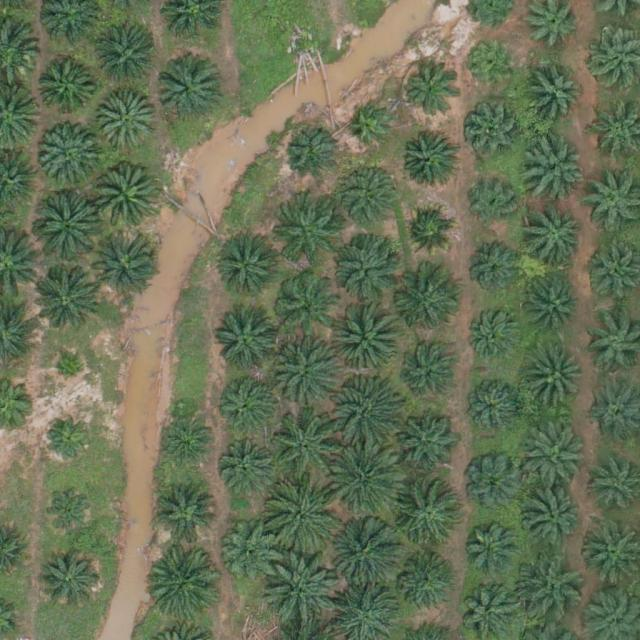Healthy: (30, 192, 101, 263), (517, 551, 587, 622), (150, 546, 220, 617), (521, 421, 591, 492), (394, 485, 464, 556), (336, 516, 406, 587), (333, 375, 403, 446), (332, 302, 403, 372), (269, 339, 339, 410), (273, 410, 343, 481), (270, 482, 340, 553), (91, 162, 161, 233), (29, 265, 99, 336), (265, 557, 335, 627), (393, 267, 463, 337), (333, 445, 403, 515), (333, 230, 403, 300), (89, 230, 159, 300), (522, 487, 585, 550), (462, 453, 525, 516), (155, 61, 218, 124), (97, 91, 160, 154), (38, 550, 100, 613), (524, 66, 587, 128), (525, 203, 587, 266), (527, 349, 589, 412), (463, 377, 525, 440), (395, 416, 457, 479), (338, 162, 400, 225), (271, 203, 333, 266), (275, 273, 337, 336), (220, 521, 283, 583), (216, 369, 278, 432), (216, 312, 278, 375), (220, 233, 282, 296), (155, 482, 217, 545), (34, 57, 96, 120), (38, 124, 100, 187), (526, 139, 588, 201), (218, 433, 280, 495), (96, 30, 158, 92), (397, 557, 452, 612), (526, 276, 581, 331), (463, 521, 518, 576), (464, 39, 519, 94), (465, 103, 520, 158), (467, 176, 522, 231), (468, 246, 523, 301), (468, 311, 523, 366), (404, 66, 459, 121), (42, 410, 97, 465), (44, 484, 99, 539), (285, 126, 340, 181), (159, 412, 214, 467), (461, 586, 516, 640), (402, 131, 456, 186), (402, 205, 456, 260), (400, 343, 454, 398)
Small: (349, 104, 396, 152), (55, 357, 86, 388)
